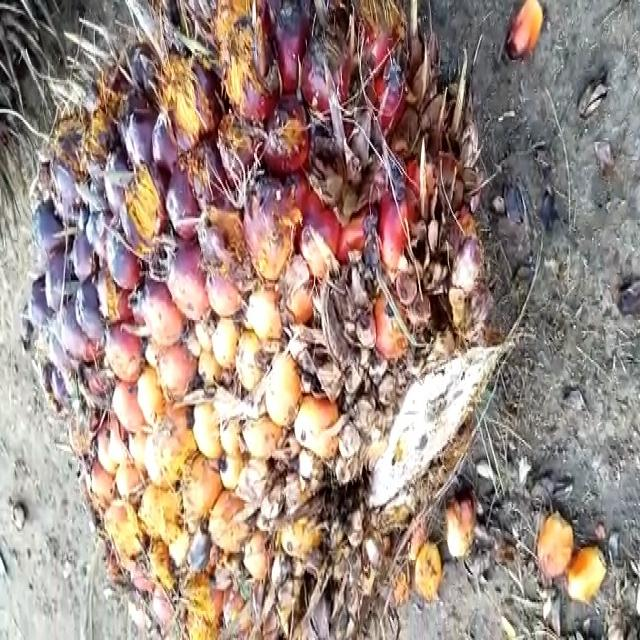palm oil: (34, 25, 548, 640)
